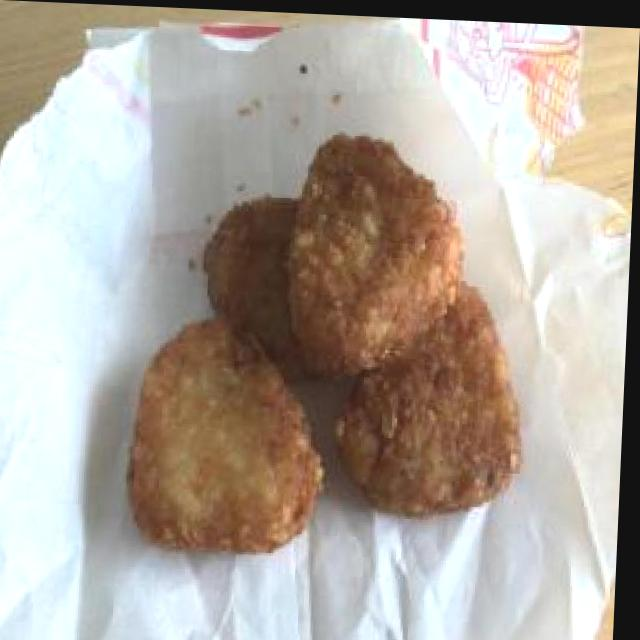triangle_hash_brown: (126, 120, 539, 567)
